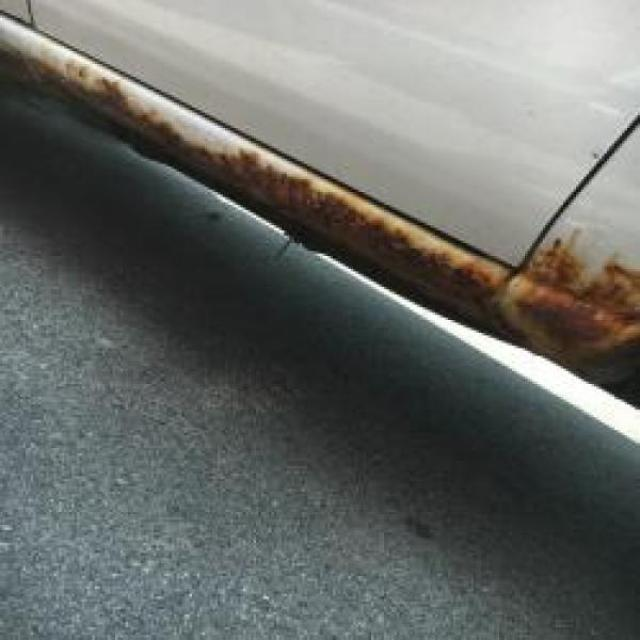corrosion: (0, 6, 639, 410)
